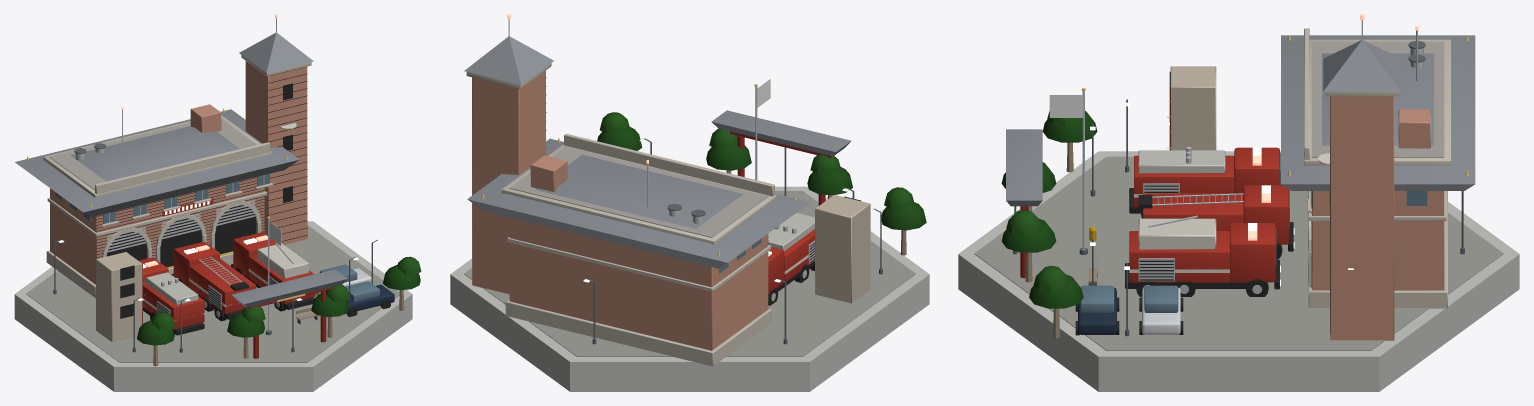
Rendered from fireStation_asia.glb.
3 renders of one model, left to right at view 1: azimuth 30°, elevation 25°; view 2: azimuth 150°, elevation 25°; view 3: azimuth 270°, elevation 25°, orthographic. The views are drawn at different scales.
Visible parts, largest first — view 1: roof_slate, brick, wall_concrete, pavers, stone, paint, dark, leaf, metal, glass, gravel, steel_dark (+1 smaller); view 2: brick, roof_slate, wall_concrete, stone, pavers, leaf, gravel, paint, steel_dark, metal, dark; view 3: pavers, wall_concrete, brick, paint, roof_slate, stone, leaf, gravel, dark, metal, glass, steel_dark (+2 smaller).
Part boxes in pixels (bbox=[...]): roof_slate: bbox=[15, 32, 347, 307]; brick: bbox=[50, 61, 307, 284]; wall_concrete: bbox=[14, 175, 412, 391]; pavers: bbox=[26, 225, 399, 362]; stone: bbox=[43, 55, 311, 341]; paint: bbox=[138, 123, 394, 358]; dark: bbox=[96, 66, 390, 335]; leaf: bbox=[137, 256, 421, 345]; metal: bbox=[75, 18, 294, 331]; glass: bbox=[55, 173, 379, 302]; gravel: bbox=[49, 118, 256, 190]; steel_dark: bbox=[53, 143, 377, 352]; brick: bbox=[472, 70, 768, 350]; roof_slate: bbox=[464, 36, 851, 268]; wall_concrete: bbox=[450, 186, 929, 391]; stone: bbox=[466, 63, 870, 366]; pavers: bbox=[464, 191, 915, 356]; leaf: bbox=[597, 112, 926, 230]; gravel: bbox=[509, 146, 768, 237]; paint: bbox=[729, 131, 834, 294]; steel_dark: bbox=[587, 138, 882, 344]; metal: bbox=[508, 19, 814, 300]; dark: bbox=[546, 77, 860, 307]; pavers: bbox=[974, 156, 1503, 350]; wall_concrete: bbox=[958, 151, 1519, 391]; brick: bbox=[1312, 96, 1444, 340]; paint: bbox=[1020, 87, 1329, 334]; roof_slate: bbox=[1006, 35, 1475, 206]; stone: bbox=[1170, 28, 1451, 308]; leaf: bbox=[1001, 110, 1097, 308]; gravel: bbox=[1312, 41, 1444, 157]; dark: bbox=[1075, 71, 1330, 335]; metal: bbox=[1082, 20, 1423, 293]; glass: bbox=[1080, 152, 1427, 312]; steel_dark: bbox=[1013, 41, 1464, 336].
Size of the model in its own units: 21.3 by 16.8 by 24.6.
